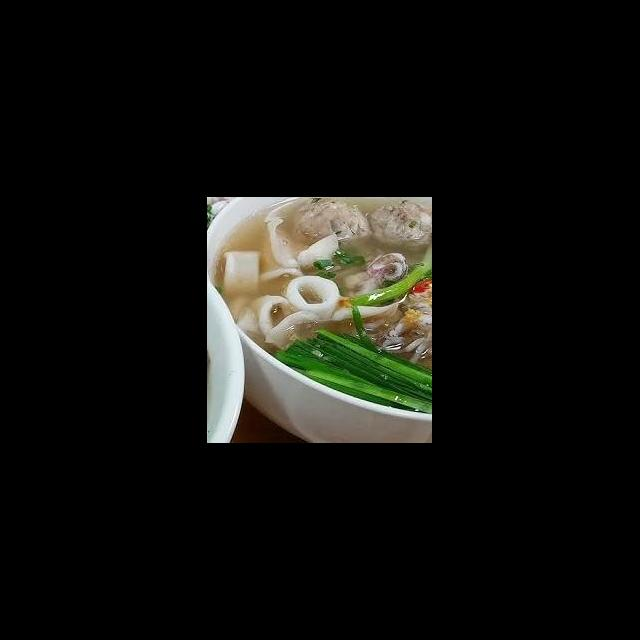muc: (264, 223, 344, 273), (282, 273, 344, 323), (262, 308, 322, 353), (220, 245, 264, 300), (247, 290, 296, 339)
